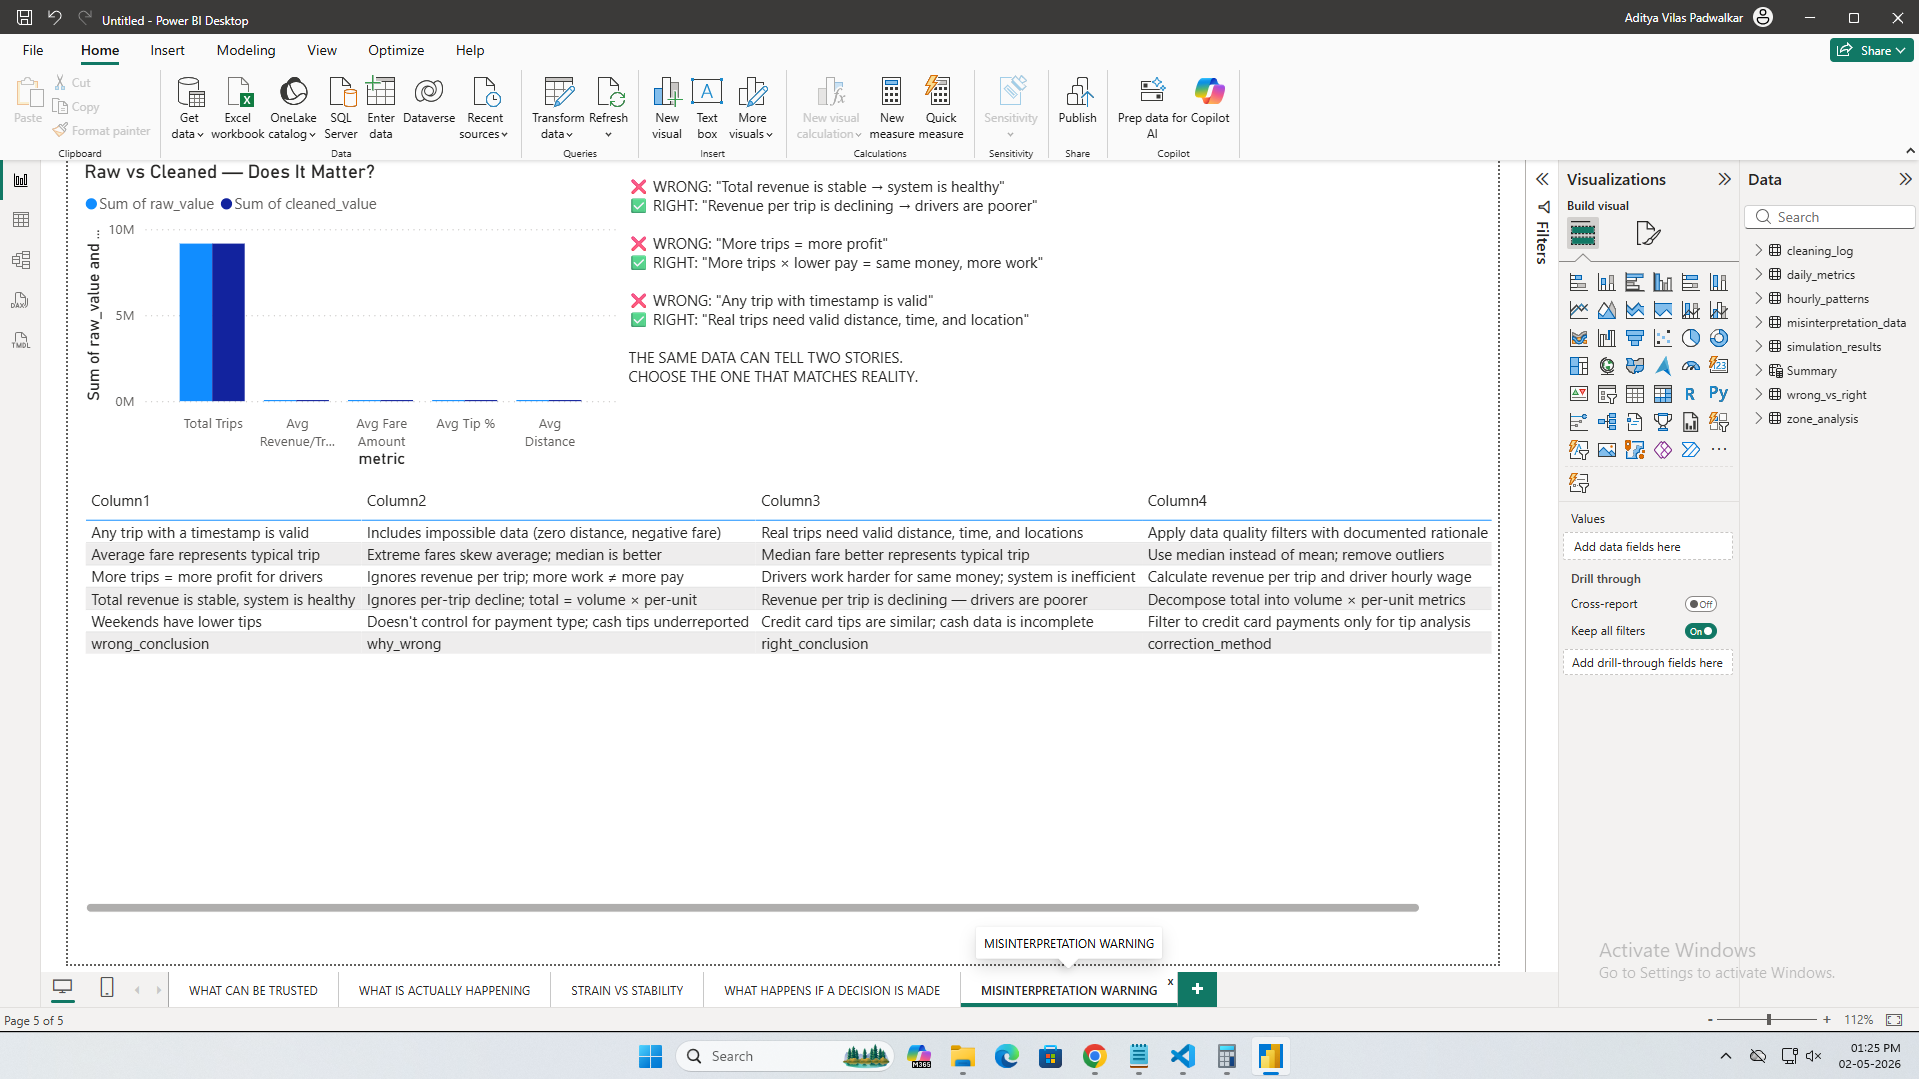

What the dashboard file says about the page in this screenshot:
{"tool":"powerbi","page":{"name":"MISINTERPRETATION WARNING","canvas":[1280,720],"ordinal":4},"visuals":[{"type":"clusteredColumnChart","title":"Raw vs Cleaned — Does It Matter?","fields":{"Category":["misinterpretation_data.metric"],"Y":["Sum(misinterpretation_data.raw_value)","Sum(misinterpretation_data.cleaned_value)"]},"box":[9.9,0,487.2,280.3],"z":0},{"type":"tableEx","fields":{"Values":["wrong_vs_right.Column1","wrong_vs_right.Column2","wrong_vs_right.Column3","wrong_vs_right.Column4","wrong_vs_right.Column5"]},"box":[9.9,290.1,1269.9,388.7],"z":1},{"type":"textbox","box":[497,9.9,782.7,280.3],"z":2}]}

Visuals, with their boxes on the page's 1280x720 design canvas (x1, y1, x2, y2). These are canvas units, not pixel positions in the 1919x1079 screenshot, which may show the page scaled, cropped or inside an application window:
"Raw vs Cleaned — Does It Matter?" clusteredColumnChart: bbox(10, 0, 497, 280)
tableEx - wrong_vs_right.Column1 x wrong_vs_right.Column2: bbox(10, 290, 1280, 679)
textbox: bbox(497, 10, 1280, 290)
